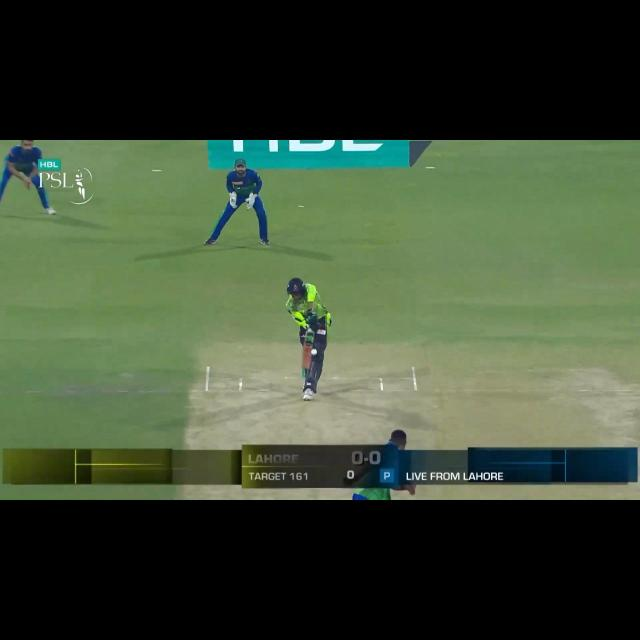bat: (302, 331, 314, 370)
toe: (303, 364, 311, 370)
